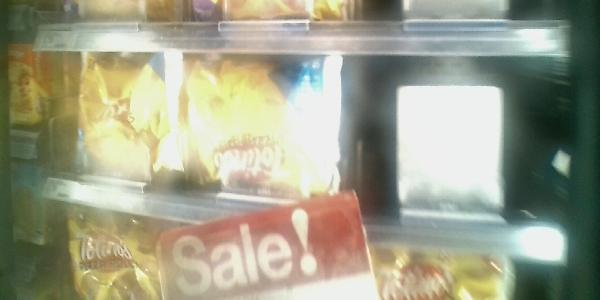icecream: (179, 52, 342, 204), (49, 48, 185, 184)
